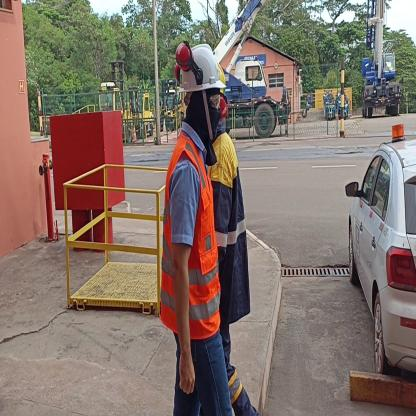Balaclava: (183, 91, 222, 142)
Capacete: (174, 42, 226, 88)
colete: (163, 136, 222, 336)
